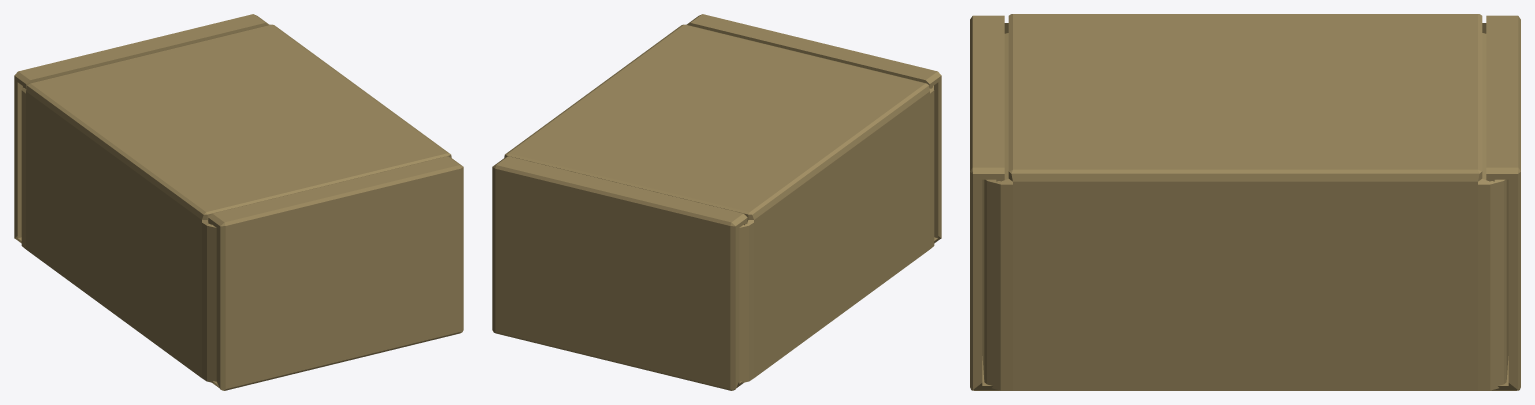
The model's file is Small Box.fbx.
The picture shows the model from 3 angles, left to right: view 1: azimuth 30°, elevation 25°; view 2: azimuth 150°, elevation 25°; view 3: azimuth 270°, elevation 25°; orthographic projection. The views are drawn at different scales.
Parts seen in each view (by area): view 1: Cube.001; view 2: Cube.001; view 3: Cube.001.
Boxes of the visible parts, bbox=[...] form: Cube.001: bbox=[14, 14, 463, 390]; Cube.001: bbox=[492, 14, 941, 390]; Cube.001: bbox=[970, 14, 1520, 390].
Size of the model in its own units: 131 by 84.31 by 188.
